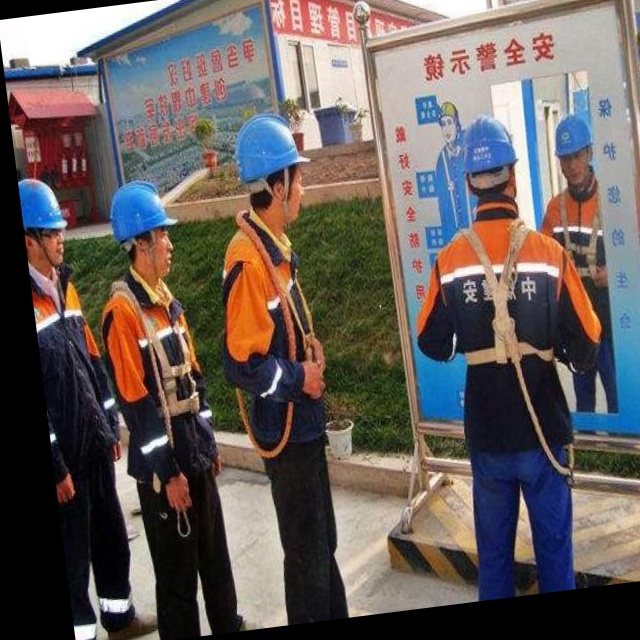Con_Casco: (227, 112, 312, 230), (450, 113, 519, 215)
